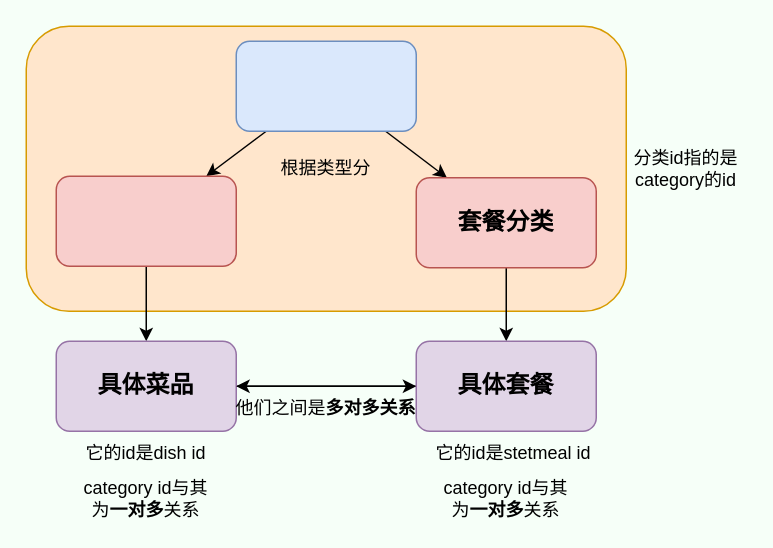
This 773x548 diagram has some shape labels left out. Here are the shapes that lost their labels. From the top down, the centre of each, then its label:
pixel 325 85: 分类(category)
pixel 145 220: 菜品分类
